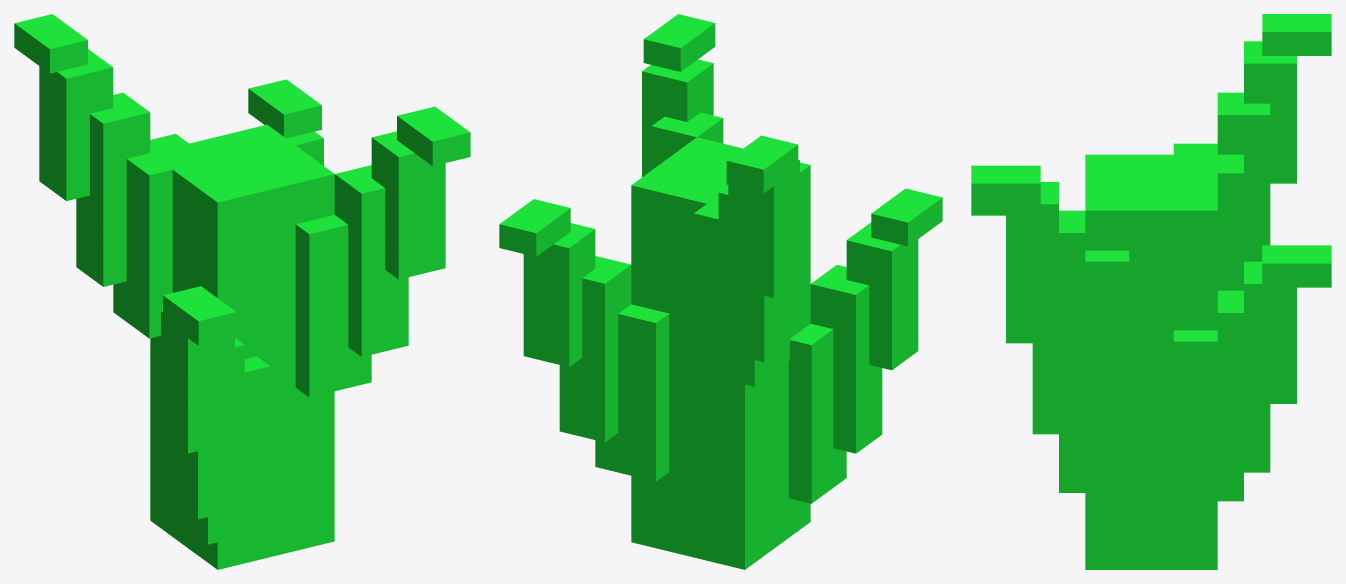
The model's file is Grass2.fbx.
The picture shows the model from 3 angles, left to right: view 1: azimuth 30°, elevation 25°; view 2: azimuth 150°, elevation 25°; view 3: azimuth 270°, elevation 25°; orthographic projection. The views are drawn at different scales.
Parts seen in each view (by area): view 1: 큐브.001; view 2: 큐브.001; view 3: 큐브.001.
Boxes of the visible parts, bbox=[...] form: 큐브.001: bbox=[14, 14, 470, 569]; 큐브.001: bbox=[499, 14, 942, 569]; 큐브.001: bbox=[971, 14, 1331, 569].
Size of the model in its own units: 23.25 by 38.67 by 27.25.
Materials: 1 (1 with a texture image).
